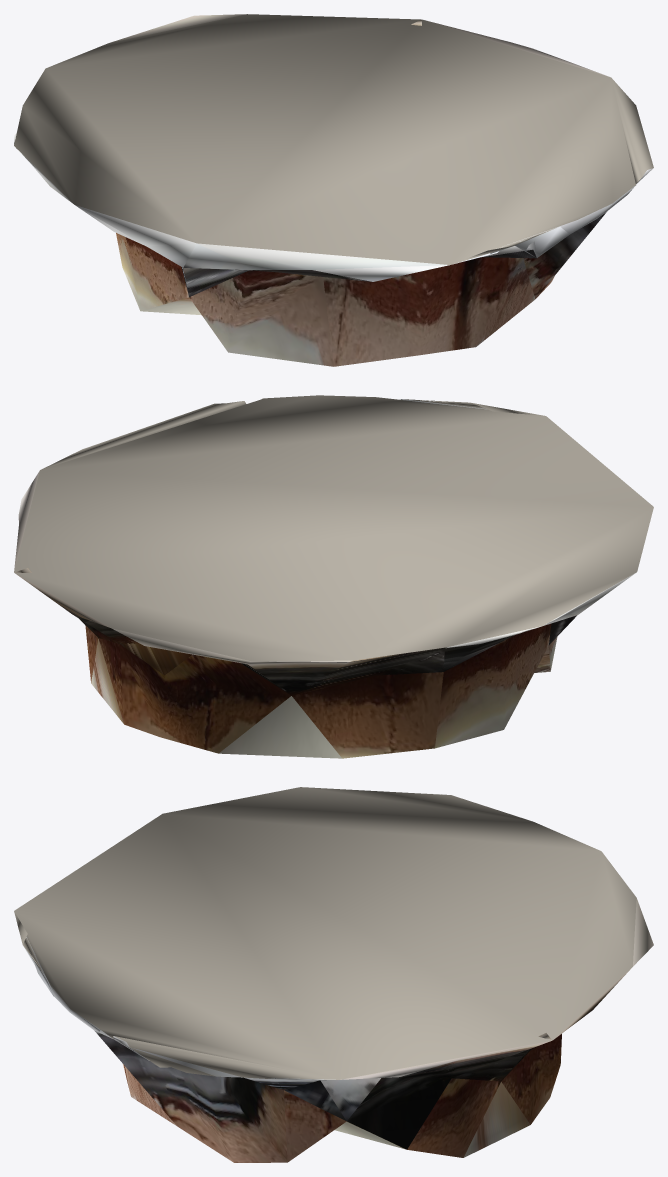
The model's file is cake_206.obj.
The picture shows the model from 3 angles, top to bottom: view 1: azimuth 30°, elevation 25°; view 2: azimuth 150°, elevation 25°; view 3: azimuth 270°, elevation 25°; orthographic projection. The views are drawn at different scales.
Size of the model in its own units: 0.1786 by 0.0495 by 0.1789.
Materials: 1 (1 with a texture image).
